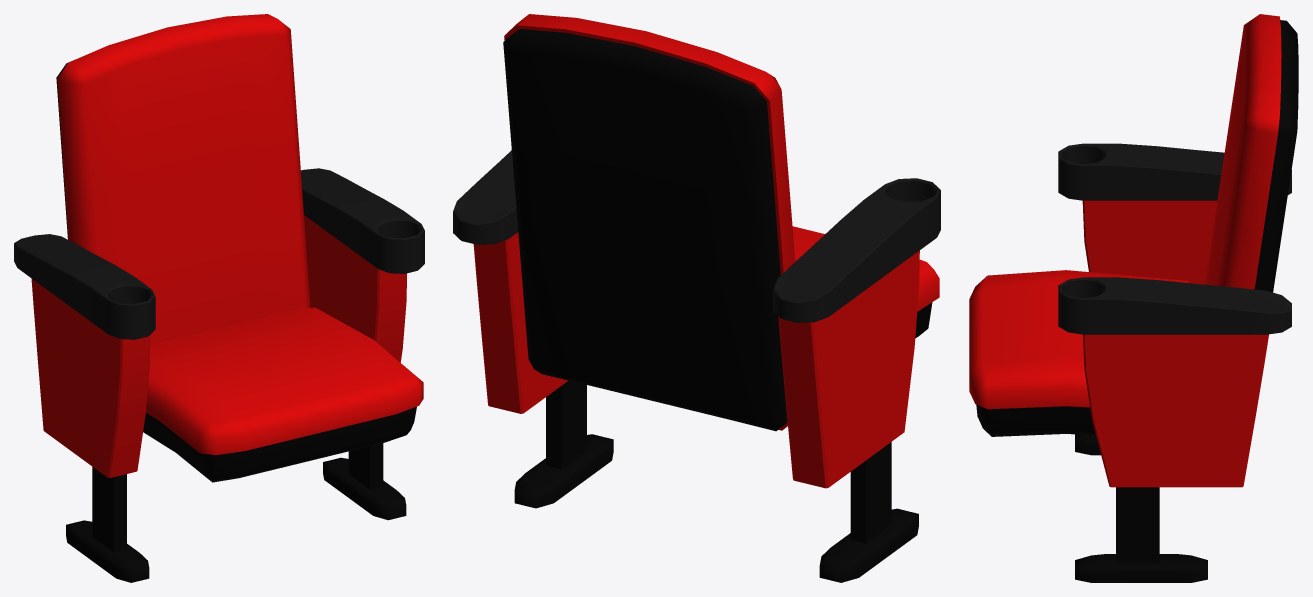
File: WW_Chair_Env.fbx
3 views of the same model, side by side, from view 1: azimuth 30°, elevation 25°; view 2: azimuth 150°, elevation 25°; view 3: azimuth 270°, elevation 25° (orthographic). The views are drawn at different scales.
Parts seen in each view (by area): view 1: chair_lp; view 2: chair_lp; view 3: chair_lp.
Boxes of the visible parts, x1=… form: chair_lp: x1=14, y1=14, x2=424, y2=582; chair_lp: x1=453, y1=14, x2=940, y2=582; chair_lp: x1=969, y1=14, x2=1298, y2=582.
Size of the model in its own units: 103 by 142 by 92.38.
